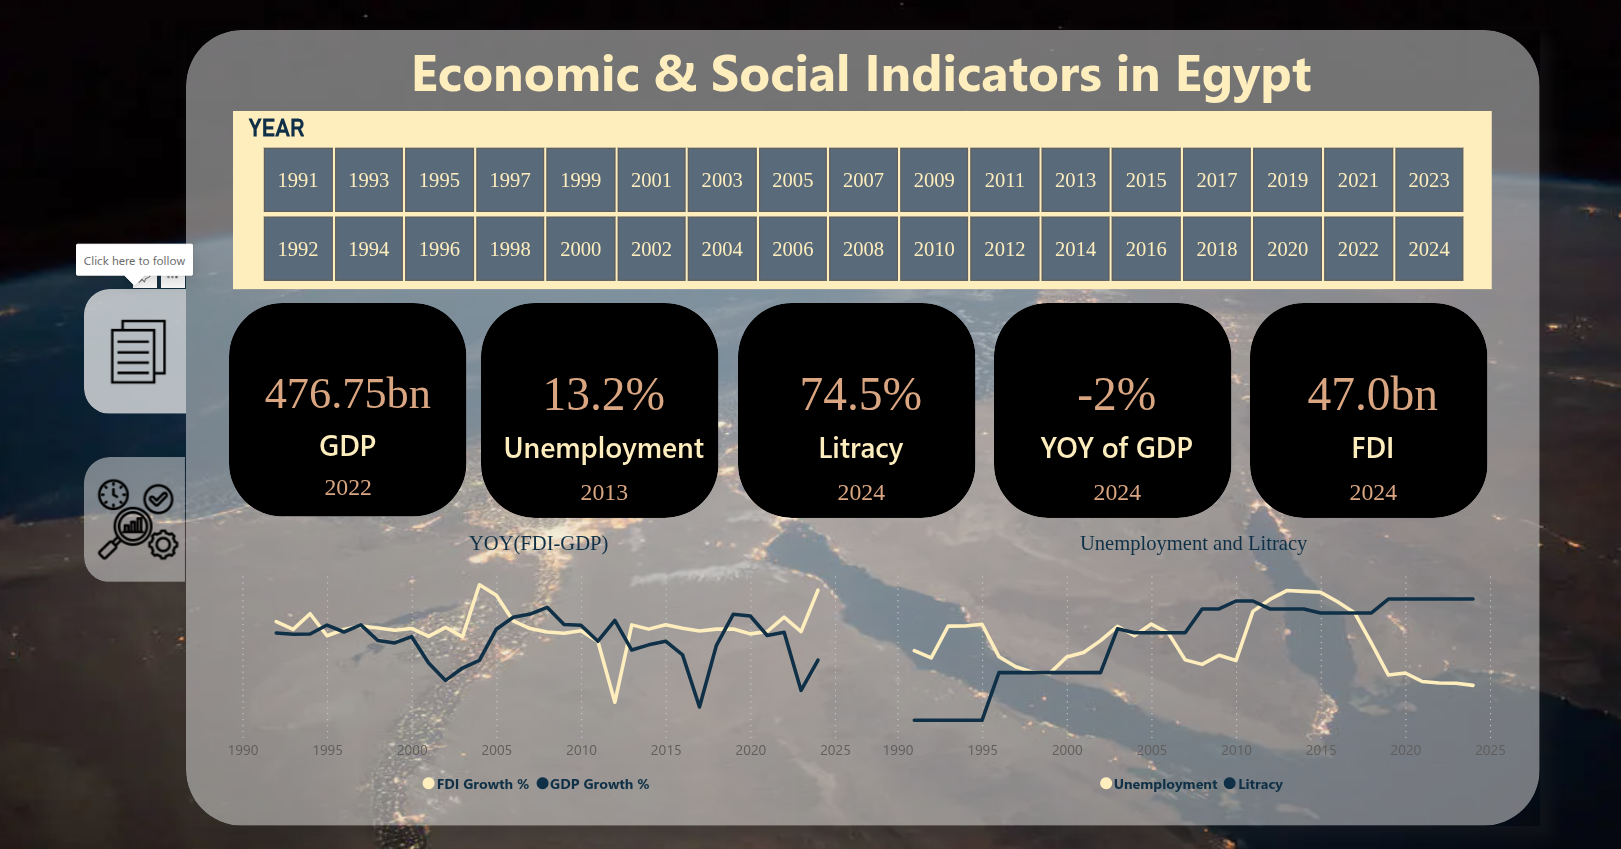

This screenshot's page, from the dashboard's own definition file:
{"tool":"powerbi","page":{"name":"Overview","canvas":[1280,720],"ordinal":0},"visuals":[{"type":"shape","title":"back2","box":[111.7,25,1140,670],"z":0},{"type":"shape","box":[148.3,255,200,179.8],"z":0,"group":"g3"},{"type":"shape","box":[360.8,255,200,181],"z":0,"group":"g2"},{"type":"shape","box":[792.6,255,200,181],"z":0,"group":"g5"},{"type":"shape","box":[1008.3,255,200,181],"z":0,"group":"g4"},{"type":"shape","box":[576.5,255.3,200,181],"z":0,"group":"g1"},{"type":"card","fields":{"Values":["FACT_ECONOMIC_INDICATORS.Year of Max GDP"]},"box":[195.1,394.1,106.4,34.1],"z":500,"group":"g3"},{"type":"card","fields":{"Values":["Max(FACT_ECONOMIC_INDICATORS.GDP_MILLION_USD)"]},"box":[148.3,255,200,179.8],"z":1000,"group":"g3"},{"type":"actionButton","title":"deep","box":[26.4,384.5,85.5,105.5],"z":1000},{"type":"card","fields":{"Values":["FACT_ECONOMIC_INDICATORS.Year of Max UE"]},"box":[411.1,398.4,106.7,34.2],"z":1000,"group":"g2"},{"type":"card","fields":{"Values":["Max(DIM_YEAR.YEAR)"]},"box":[842.9,398.4,106.7,34.2],"z":1000,"group":"g5"},{"type":"card","fields":{"Values":["FACT_ECONOMIC_INDICATORS.Year of Max FDI"]},"box":[1058.6,398.4,106.7,34.2],"z":1000,"group":"g4"},{"type":"card","fields":{"Values":["FACT_ECONOMIC_INDICATORS.Year of Max lit"]},"box":[626.8,398.7,106.7,34.2],"z":1000,"group":"g1"},{"type":"actionButton","title":"overview","box":[25.9,243.5,85.9,105.1],"z":2000},{"type":"card","fields":{"Values":["Max(FACT_ECONOMIC_INDICATORS.UNEMPLOYMENT)"]},"box":[364.4,255,200,181],"z":2000,"group":"g2"},{"type":"card","fields":{"Values":["FACT_ECONOMIC_INDICATORS.GDP Growth %"]},"box":[796.2,255,200,181],"z":2000,"group":"g5"},{"type":"card","fields":{"Values":["Max(FACT_ECONOMIC_INDICATORS.FDI)"]},"box":[1011.9,255,200,181],"z":2000,"group":"g4"},{"type":"card","fields":{"Values":["Max(FACT_ECONOMIC_INDICATORS.LITERACY_RATE)"]},"box":[580.1,255.3,200,181],"z":2000,"group":"g1"},{"type":"group","id":"g1","title":"lit","box":[576.5,255.3,203.6,181],"z":3000},{"type":"slicer","title":"sclicer year","fields":{"Values":["DIM_YEAR.YEAR"]},"box":[151.7,93.3,1060,150],"z":4000},{"type":"group","id":"g2","title":"un","box":[360.8,255,203.3,181.7],"z":5000},{"type":"group","id":"g3","title":"gdp","box":[148.3,255,200,181.7],"z":6000},{"type":"textbox","title":"title","box":[293.3,25,775,81.7],"z":7000},{"type":"group","id":"g4","title":"FDI","box":[1008.3,255,202.5,181.7],"z":8000},{"type":"group","id":"g5","title":"yoy","box":[792.6,255,203.3,181.7],"z":9000},{"type":"lineChart","title":"YOY(FDI-GDP)","fields":{"Category":["DIM_YEAR.YEAR"],"Y2":["FACT_ECONOMIC_INDICATORS.GDP Growth % (Latest)"],"Y":["FACT_ECONOMIC_INDICATORS.FDI Growth % (Latest)"]},"box":[141.7,448.3,535,230],"z":10000},{"type":"lineChart","title":"Unemployment and Litracy","fields":{"Category":["DIM_YEAR.YEAR"],"Y":["Sum(FACT_ECONOMIC_INDICATORS.UE_rate)"],"Y2":["Sum(FACT_ECONOMIC_INDICATORS.LITERACY_RATE)"]},"box":[693.3,448.3,535,230],"z":11000}]}

Visuals, with their boxes on the page's 1280x720 design canvas (x1, y1, x2, y2). These are canvas units, not pixel positions in the 1621x849 screenshot, which may show the page scaled, cropped or inside an application window:
"back2" shape: {"left": 112, "top": 25, "right": 1252, "bottom": 695}
shape: {"left": 148, "top": 255, "right": 348, "bottom": 435}
shape: {"left": 361, "top": 255, "right": 561, "bottom": 436}
shape: {"left": 793, "top": 255, "right": 993, "bottom": 436}
shape: {"left": 1008, "top": 255, "right": 1208, "bottom": 436}
shape: {"left": 576, "top": 255, "right": 776, "bottom": 436}
card - FACT_ECONOMIC_INDICATORS.Year of Max GDP: {"left": 195, "top": 394, "right": 302, "bottom": 428}
card - Max(FACT_ECONOMIC_INDICATORS.GDP_MILLION_USD): {"left": 148, "top": 255, "right": 348, "bottom": 435}
"deep" actionButton: {"left": 26, "top": 384, "right": 112, "bottom": 490}
card - FACT_ECONOMIC_INDICATORS.Year of Max UE: {"left": 411, "top": 398, "right": 518, "bottom": 433}
card - Max(DIM_YEAR.YEAR): {"left": 843, "top": 398, "right": 950, "bottom": 433}
card - FACT_ECONOMIC_INDICATORS.Year of Max FDI: {"left": 1059, "top": 398, "right": 1165, "bottom": 433}
card - FACT_ECONOMIC_INDICATORS.Year of Max lit: {"left": 627, "top": 399, "right": 734, "bottom": 433}
"overview" actionButton: {"left": 26, "top": 244, "right": 112, "bottom": 349}
card - Max(FACT_ECONOMIC_INDICATORS.UNEMPLOYMENT): {"left": 364, "top": 255, "right": 564, "bottom": 436}
card - FACT_ECONOMIC_INDICATORS.GDP Growth %: {"left": 796, "top": 255, "right": 996, "bottom": 436}
card - Max(FACT_ECONOMIC_INDICATORS.FDI): {"left": 1012, "top": 255, "right": 1212, "bottom": 436}
card - Max(FACT_ECONOMIC_INDICATORS.LITERACY_RATE): {"left": 580, "top": 255, "right": 780, "bottom": 436}
"lit" group: {"left": 576, "top": 255, "right": 780, "bottom": 436}
"sclicer year" slicer: {"left": 152, "top": 93, "right": 1212, "bottom": 243}
"un" group: {"left": 361, "top": 255, "right": 564, "bottom": 437}
"gdp" group: {"left": 148, "top": 255, "right": 348, "bottom": 437}
"title" textbox: {"left": 293, "top": 25, "right": 1068, "bottom": 107}
"FDI" group: {"left": 1008, "top": 255, "right": 1211, "bottom": 437}
"yoy" group: {"left": 793, "top": 255, "right": 996, "bottom": 437}
"YOY(FDI-GDP)" lineChart: {"left": 142, "top": 448, "right": 677, "bottom": 678}
"Unemployment and Litracy" lineChart: {"left": 693, "top": 448, "right": 1228, "bottom": 678}
